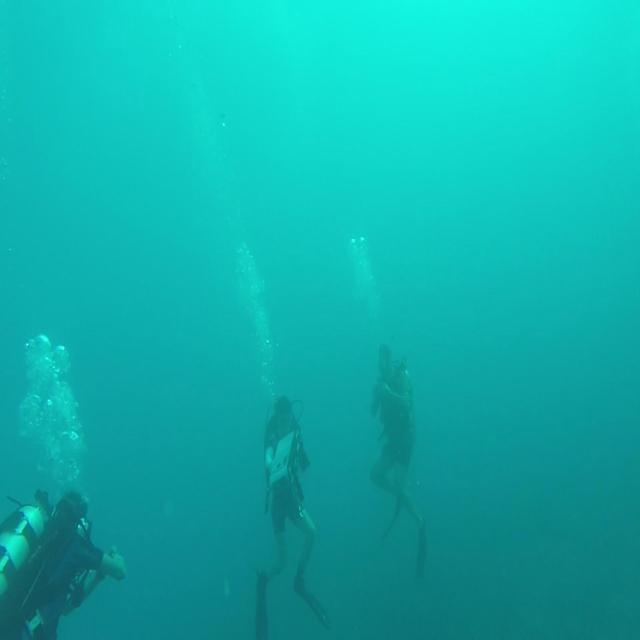human: (1, 487, 125, 638), (253, 394, 330, 637), (368, 341, 428, 579)
